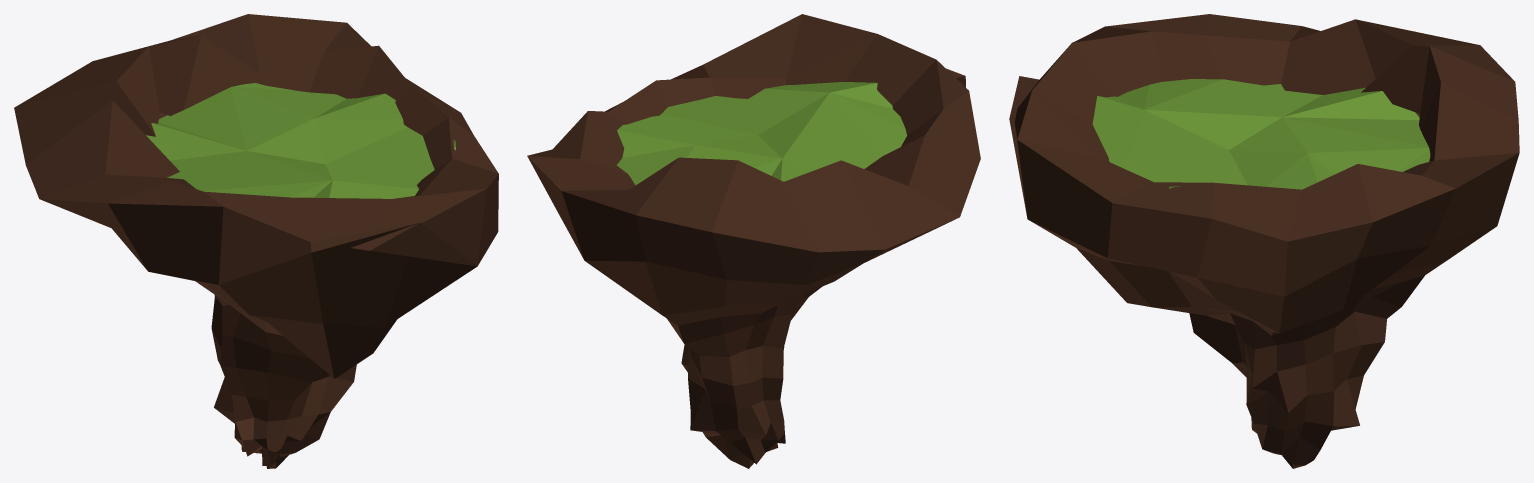
File: SmallIsland1.fbx
3 renders of one model, left to right at view 1: azimuth 30°, elevation 25°; view 2: azimuth 150°, elevation 25°; view 3: azimuth 270°, elevation 25°, orthographic. The views are drawn at different scales.
Parts seen in each view (by area): view 1: Sphere, Plane; view 2: Sphere, Plane; view 3: Sphere, Plane.
Boxes of the visible parts, box(x1,y1,x2,y2) form: Sphere: box(14, 14, 498, 468); Plane: box(146, 83, 455, 198); Sphere: box(527, 14, 980, 468); Plane: box(616, 78, 906, 185); Sphere: box(1009, 14, 1519, 468); Plane: box(1092, 79, 1430, 189).
Bounding box in the file's own units: 1115 × 989 × 1160.
